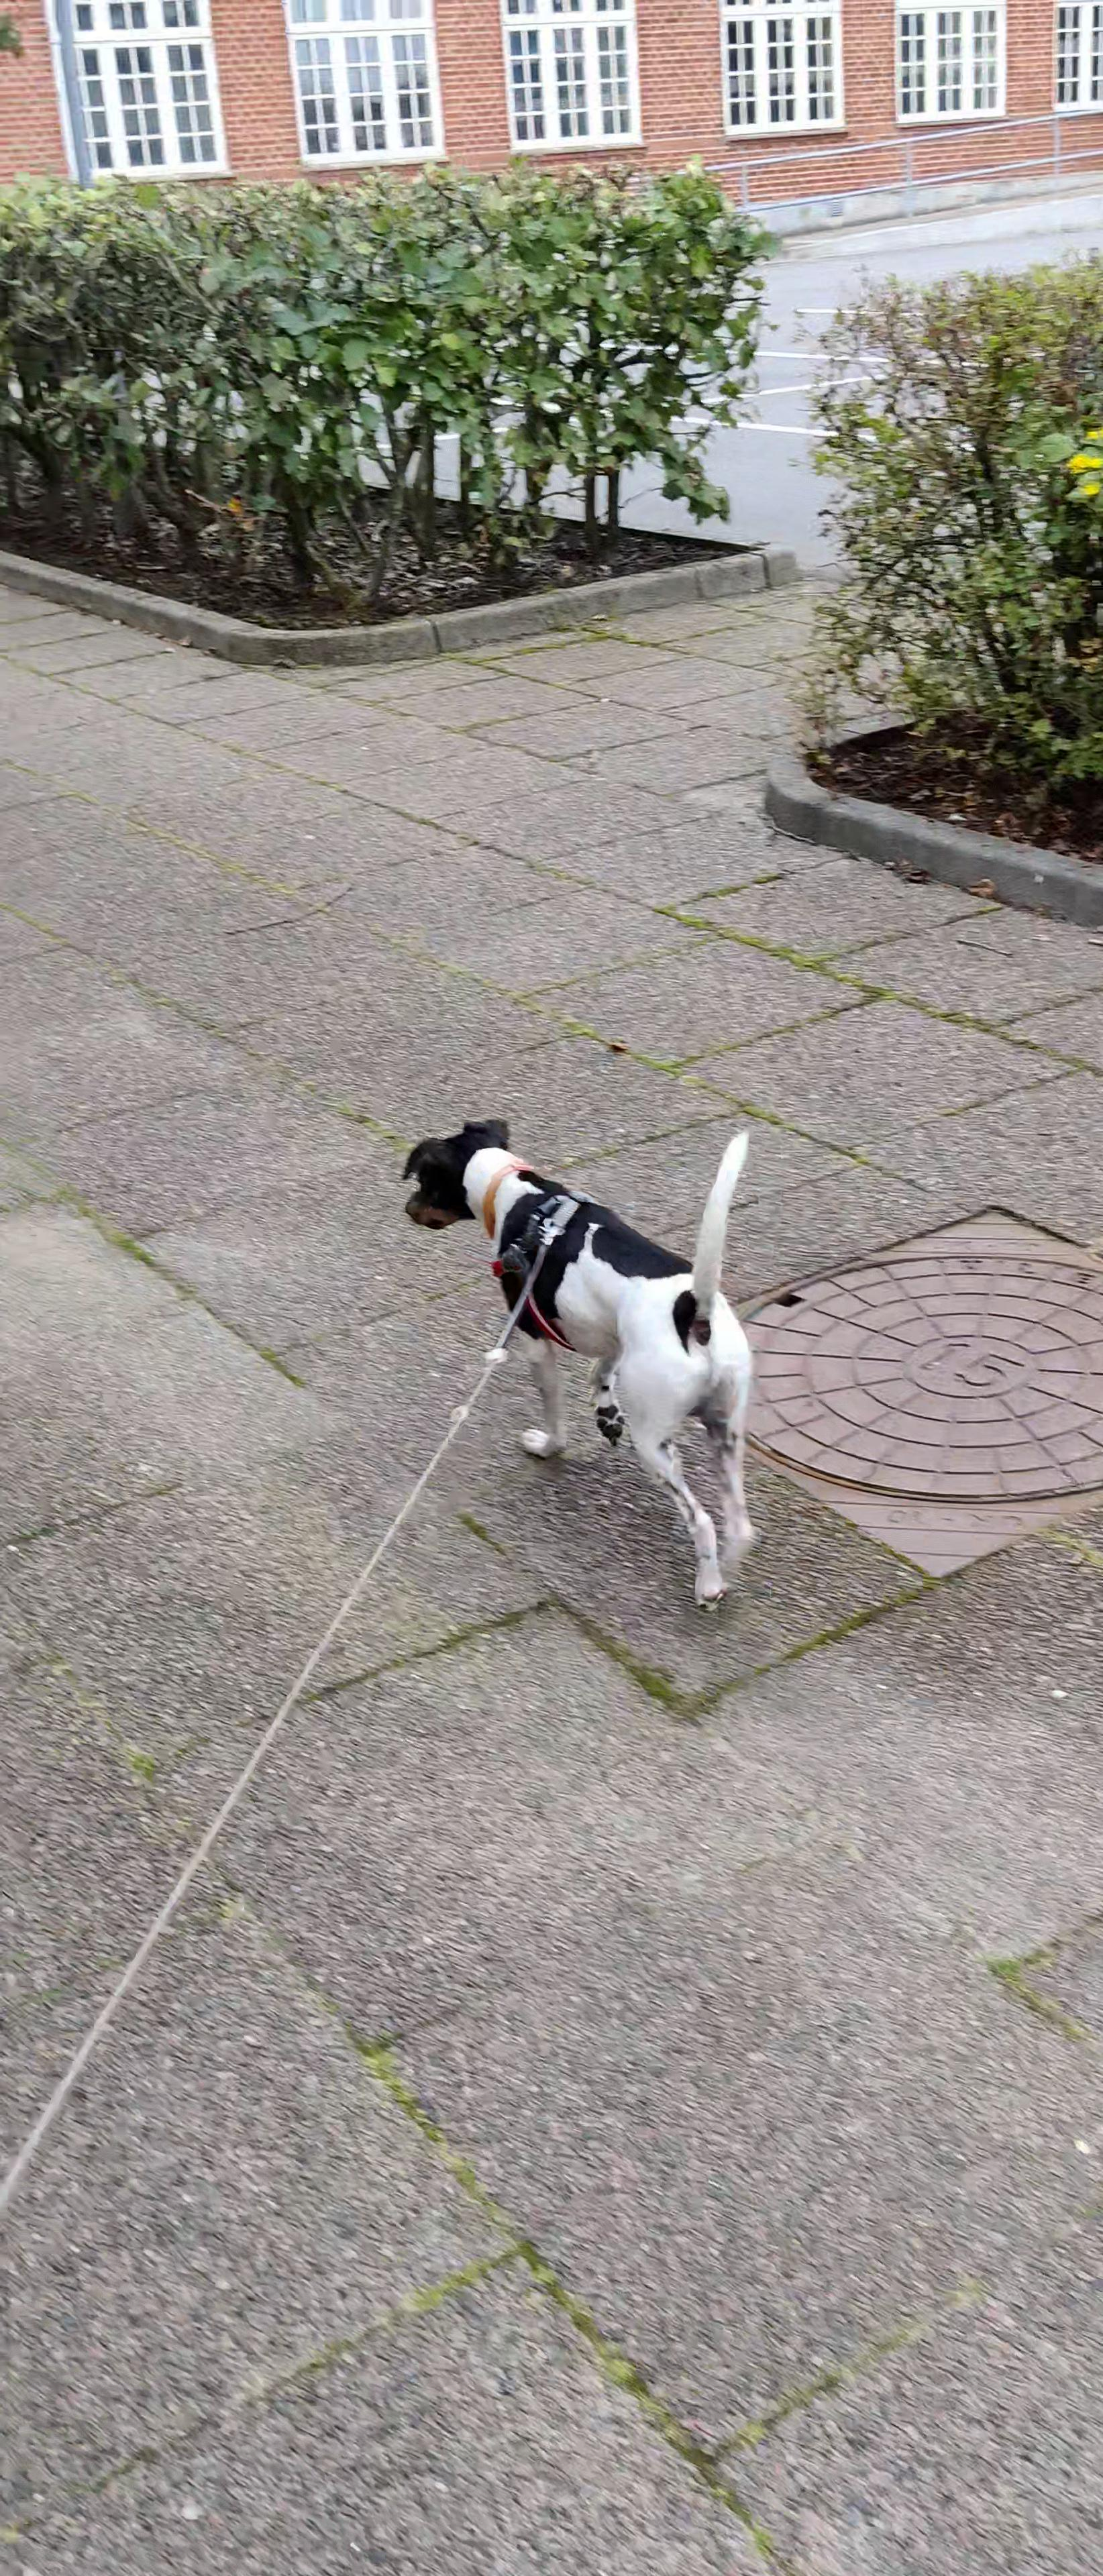Dog: (391, 1111, 782, 1618)
